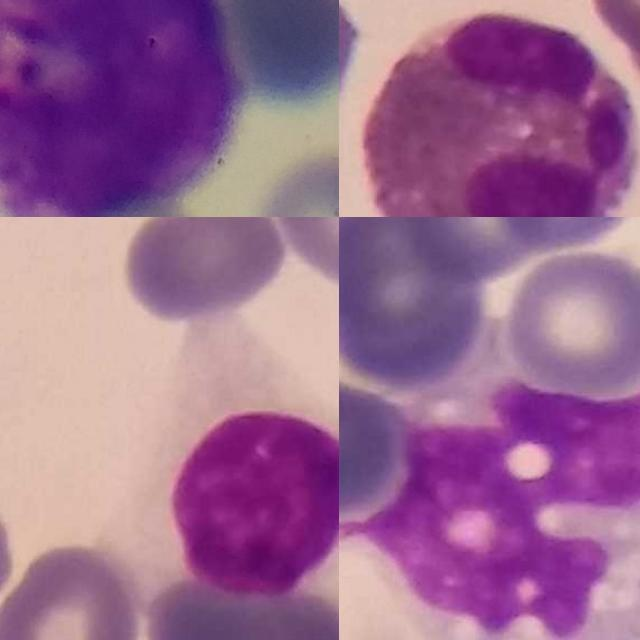Basophil: (0, 0, 241, 217)
Eosinophil: (364, 13, 632, 217)
Lymphocyte: (110, 320, 339, 595)
Monocyte: (384, 317, 640, 640)
